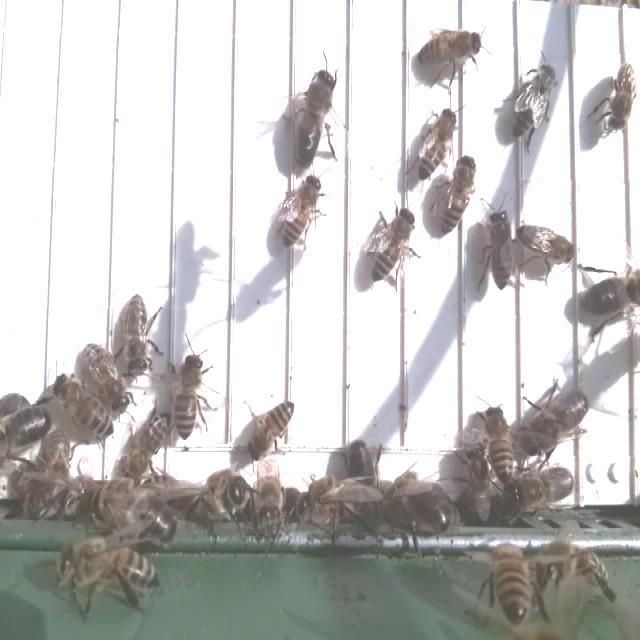Drone: (287, 62, 340, 174), (519, 383, 593, 456), (574, 265, 640, 327), (503, 463, 578, 516), (0, 399, 54, 456)
Worker: (365, 202, 419, 289), (52, 374, 117, 445), (511, 58, 558, 145), (278, 170, 326, 255), (123, 406, 174, 484), (80, 341, 130, 417), (412, 103, 459, 181), (171, 347, 208, 443), (439, 150, 479, 237), (247, 394, 298, 462), (412, 26, 483, 74), (482, 399, 517, 485), (121, 288, 153, 381), (516, 221, 579, 267), (604, 60, 639, 136), (485, 206, 514, 297)
